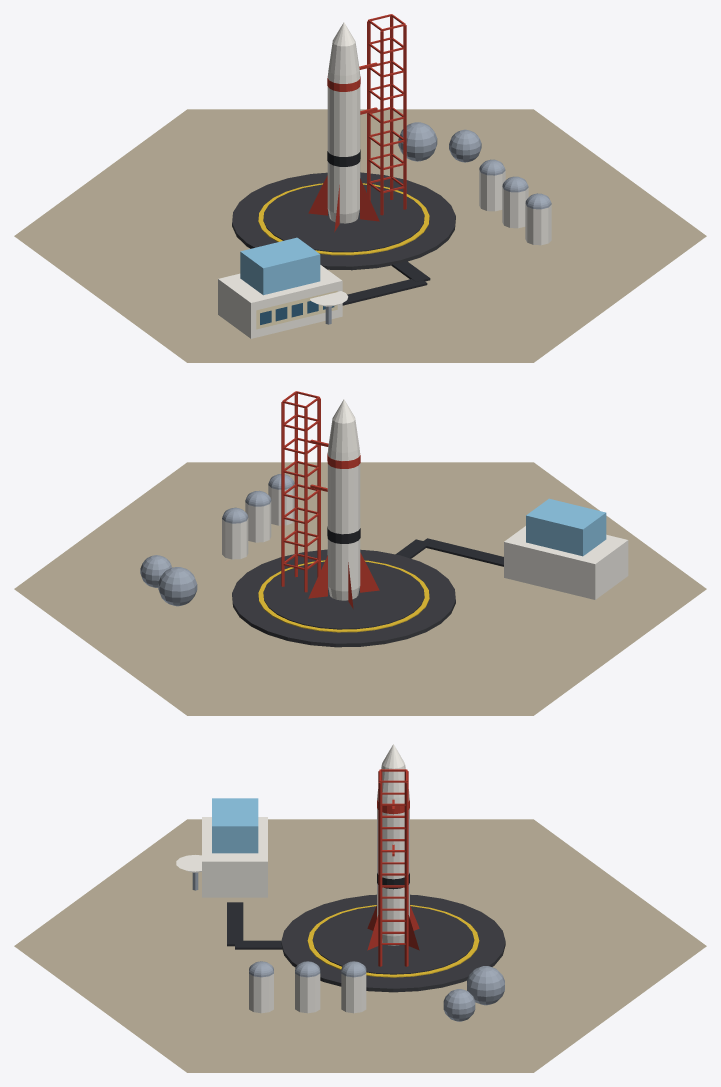
Rendered from district_spaceport_2.fbx.
3 views of the same model, one above another, from view 1: azimuth 30°, elevation 25°; view 2: azimuth 150°, elevation 25°; view 3: azimuth 270°, elevation 25° (orthographic).
Parts seen in each view (by area): view 1: district_spaceport_2; view 2: district_spaceport_2; view 3: district_spaceport_2.
Part boxes in pixels (box(x1,y1,x2,y2)): district_spaceport_2: box(14, 14, 706, 362); district_spaceport_2: box(14, 391, 706, 715); district_spaceport_2: box(14, 744, 706, 1072).
Size of the model in its own units: 182 by 67.65 by 210.
